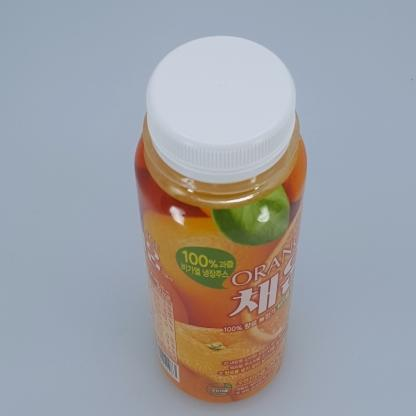--------210ML: (134, 35, 307, 403)
